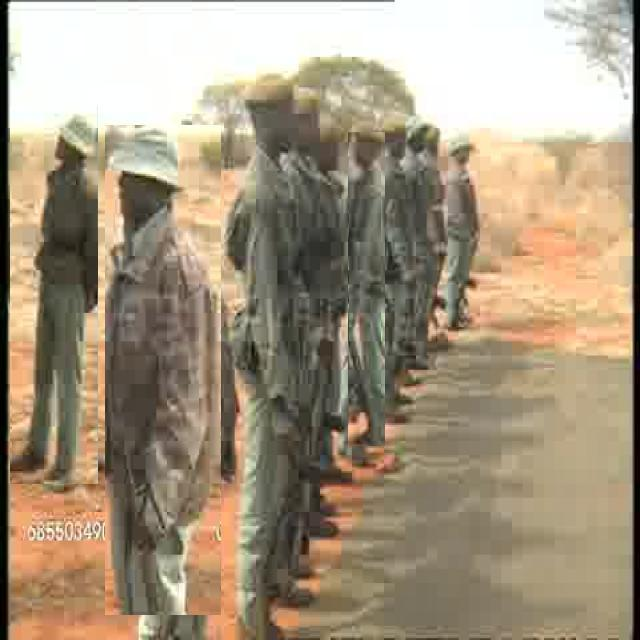poacher: (106, 125, 222, 615), (233, 48, 295, 610), (10, 106, 99, 484), (293, 67, 331, 521), (338, 119, 389, 443), (348, 132, 385, 446), (446, 119, 486, 308), (422, 119, 444, 338)
